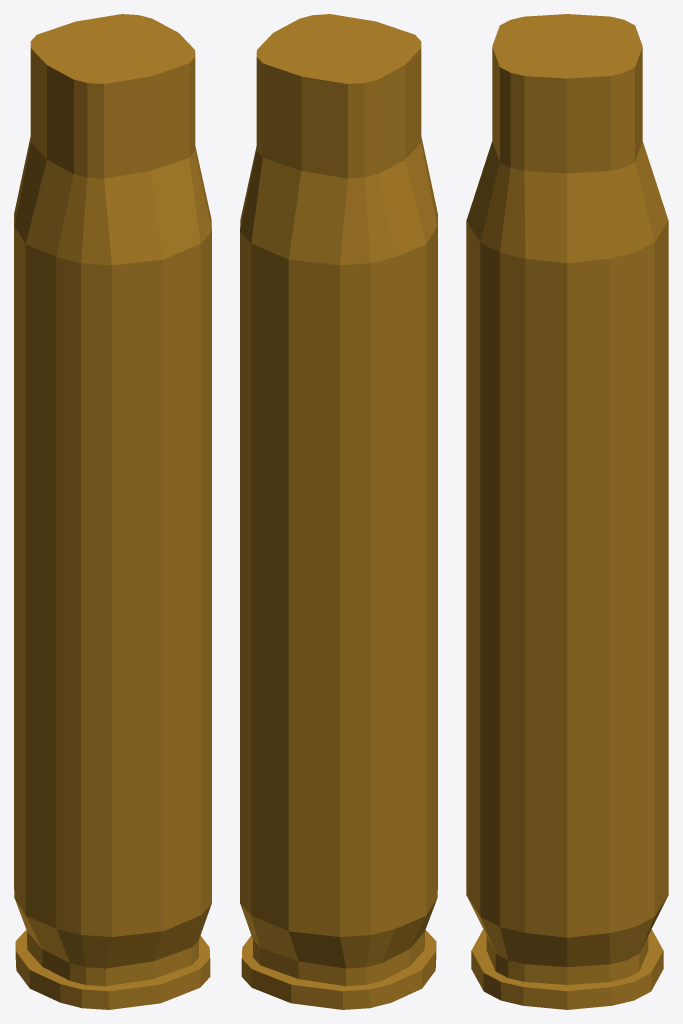
File: model_ammo_556x45mm_casing.glb
3 renders of one model, left to right at view 1: azimuth 30°, elevation 25°; view 2: azimuth 150°, elevation 25°; view 3: azimuth 270°, elevation 25°, orthographic.
Visible parts, largest first — view 1: Casing; view 2: Casing; view 3: Casing.
Boxes of the visible parts, x1=… form: Casing: x1=14, y1=14, x2=211, y2=1009; Casing: x1=240, y1=14, x2=437, y2=1009; Casing: x1=466, y1=14, x2=668, y2=1009.
Bounding box in the file's own units: 0.0721 × 0.363 × 0.0721.
Materials: 1 (1 with a texture image).
